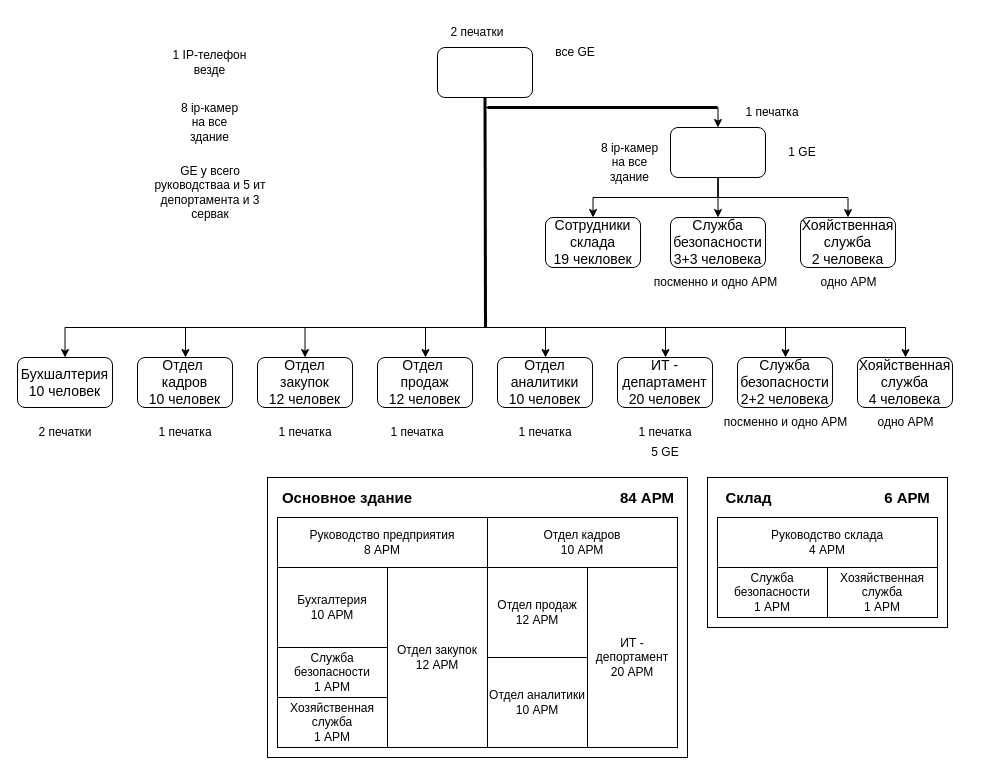
Image size: 995x775. Some labels were removed from this diagram. The centre of each missing label's shape, as x and y in pixels:
"Руководство предприятия 8 человек" belongs at point (484, 72).
"Руководство склада 4 человека" belongs at point (718, 152).
